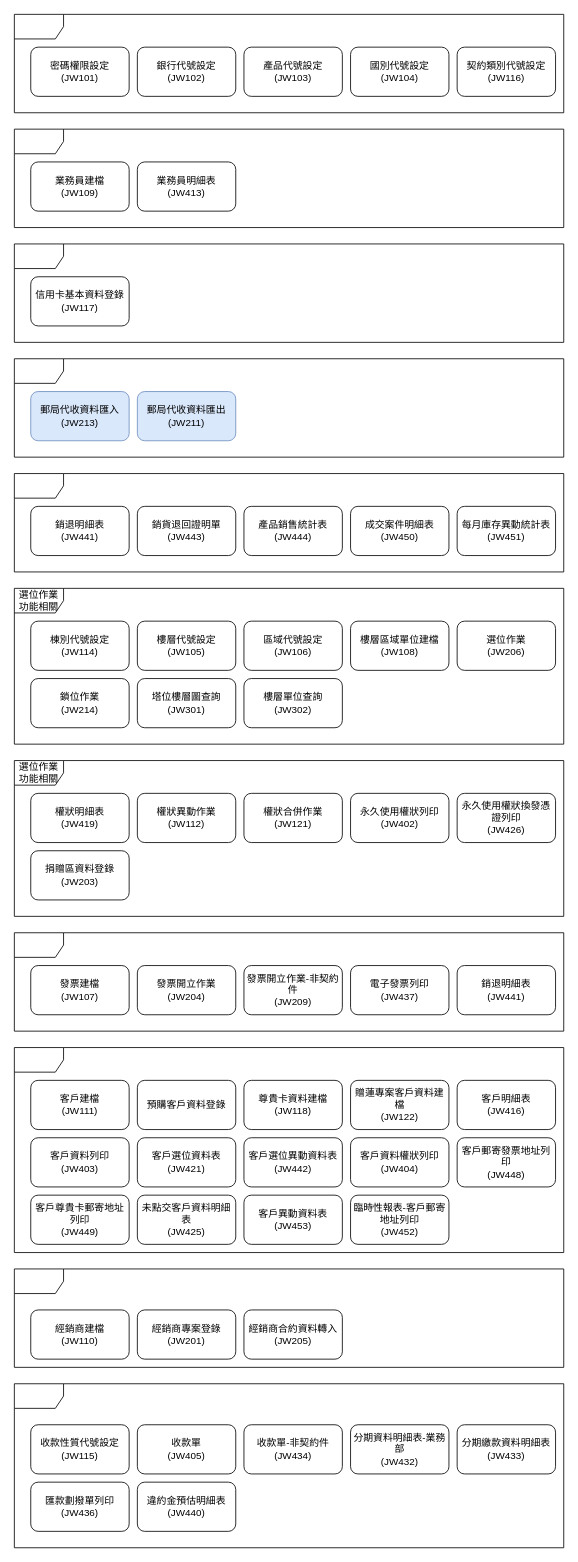
Some shapes in this 578 by 1562 pixel diagram are drawn without their labels. The box of each missing label's shape, as (x1, y1, x2, y2) in pixels:
信用卡相關功能: (14, 243, 564, 342)
基本資料設定: (14, 14, 564, 113)
客戶功能相關: (14, 1047, 564, 1253)
收款匯款相關功能: (14, 1383, 564, 1548)
業務員相關功能: (14, 128, 564, 228)
發票相關功能: (14, 932, 564, 1031)
經銷商相關功能: (14, 1268, 564, 1367)
轉入轉出功能: (14, 358, 564, 457)
銷售相關功能: (14, 473, 564, 572)
